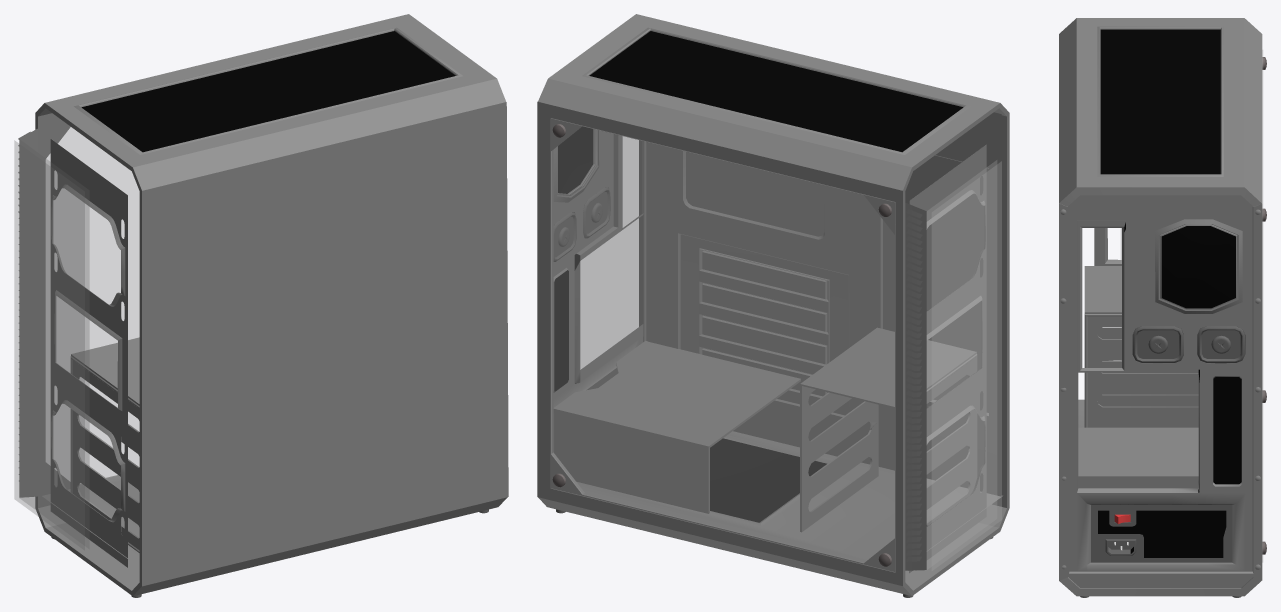
File: PC_Case.fbx
3 views of the same model, side by side, from view 1: azimuth 30°, elevation 25°; view 2: azimuth 150°, elevation 25°; view 3: azimuth 270°, elevation 25° (orthographic). The views are drawn at different scales.
Visible parts, largest first — view 1: MainCase, Front, TopGitter, Glasscheibe, LüfterHalterung_Vorne, Cube_Null, TopCaseGitterRahmen, Boden; view 2: Glasscheibe, MainCase, Rückplatte_1, Front, PSU_Innere_Verkleidung, TopGitter, Boden, Cube_Null, LüfterHalterung_Vorne, HintereAbdeckung, HiteresLüftungsGitter, TopCaseGitterRahmen (+1 smaller); view 3: HintereAbdeckung, MainCase, TopGitter, Cube_Null, PSU_Verkleidung, HiteresLüftungsGitter, PSU_Innere_Verkleidung, Kabelöfnungen, TopCaseGitterRahmen, Glasscheibe, LüfterHalterung_Vorne.
Part boxes in pixels (x1,y1,x2,y2): MainCase: [35, 14, 508, 596]; Front: [14, 128, 89, 550]; TopGitter: [81, 31, 455, 152]; Glasscheibe: [46, 127, 139, 483]; LüfterHalterung_Vorne: [50, 139, 127, 567]; Cube_Null: [70, 337, 139, 552]; TopCaseGitterRahmen: [74, 27, 462, 154]; Boden: [42, 477, 139, 567]; Glasscheibe: [550, 118, 895, 572]; MainCase: [537, 14, 1009, 595]; Rückplatte_1: [648, 112, 1001, 496]; Front: [905, 160, 1001, 570]; PSU_Innere_Verkleidung: [553, 341, 800, 513]; TopGitter: [589, 31, 963, 152]; Boden: [577, 431, 1002, 561]; Cube_Null: [800, 327, 977, 532]; LüfterHalterung_Vorne: [909, 144, 986, 572]; HintereAbdeckung: [553, 130, 643, 407]; HiteresLüftungsGitter: [553, 126, 599, 202]; TopCaseGitterRahmen: [582, 27, 970, 154]; HintereAbdeckung: [1068, 195, 1253, 587]; MainCase: [1059, 18, 1262, 596]; TopGitter: [1100, 29, 1220, 174]; Cube_Null: [1084, 266, 1198, 427]; PSU_Verkleidung: [1091, 505, 1232, 562]; HiteresLüftungsGitter: [1155, 219, 1242, 313]; PSU_Innere_Verkleidung: [1078, 427, 1198, 476]; Kabelöfnungen: [1132, 326, 1245, 363]; TopCaseGitterRahmen: [1097, 26, 1223, 176]; Glasscheibe: [1262, 50, 1263, 562]; LüfterHalterung_Vorne: [1094, 228, 1198, 394].
Size of the model in its own units: 87.95 by 93.25 by 42.48.
12 materials, 4 textured.
